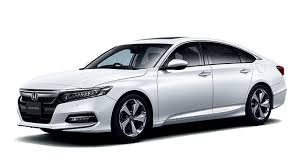Honda: (17, 33, 288, 140)
